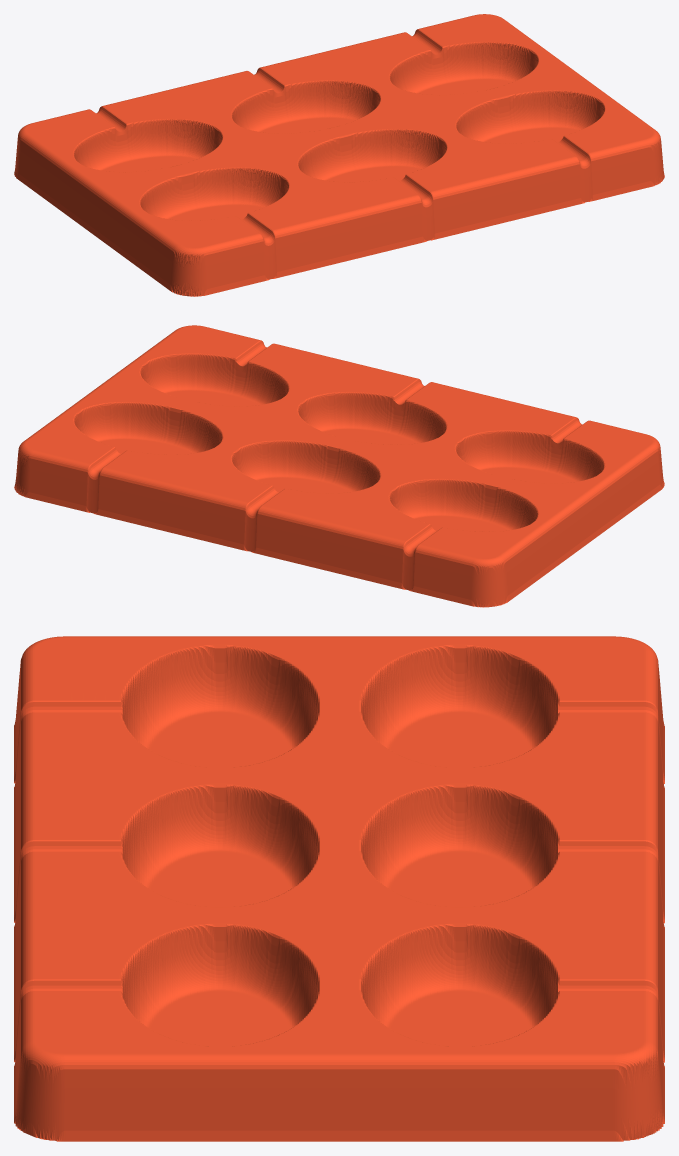
File: mold.glb
The picture shows the model from 3 angles, top to bottom: view 1: azimuth 30°, elevation 25°; view 2: azimuth 150°, elevation 25°; view 3: azimuth 270°, elevation 25°; orthographic projection. The views are drawn at different scales.
Visible parts, largest first — view 1: geometry_0; view 2: geometry_0; view 3: geometry_0.
Boxes of the visible parts, left/top/right/bottom form: geometry_0: left=14, top=14, right=664, bottom=296; geometry_0: left=14, top=325, right=664, bottom=607; geometry_0: left=14, top=636, right=664, bottom=1141.
Bounding box in the file's own units: 0.1824 × 0.0155 × 0.1158.
